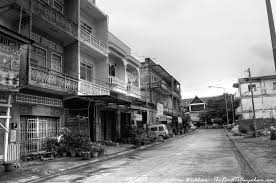strada: (57, 147, 257, 182)
